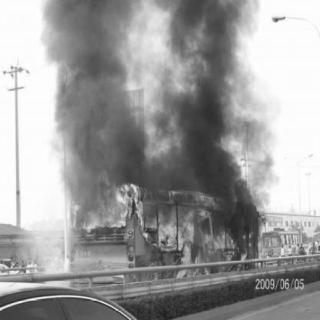Smoke: (43, 3, 149, 186)
